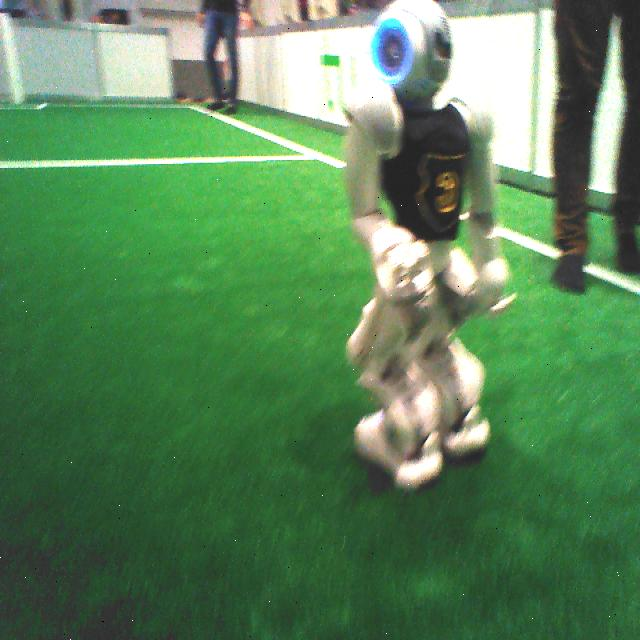goalpost: (0, 15, 23, 105)
